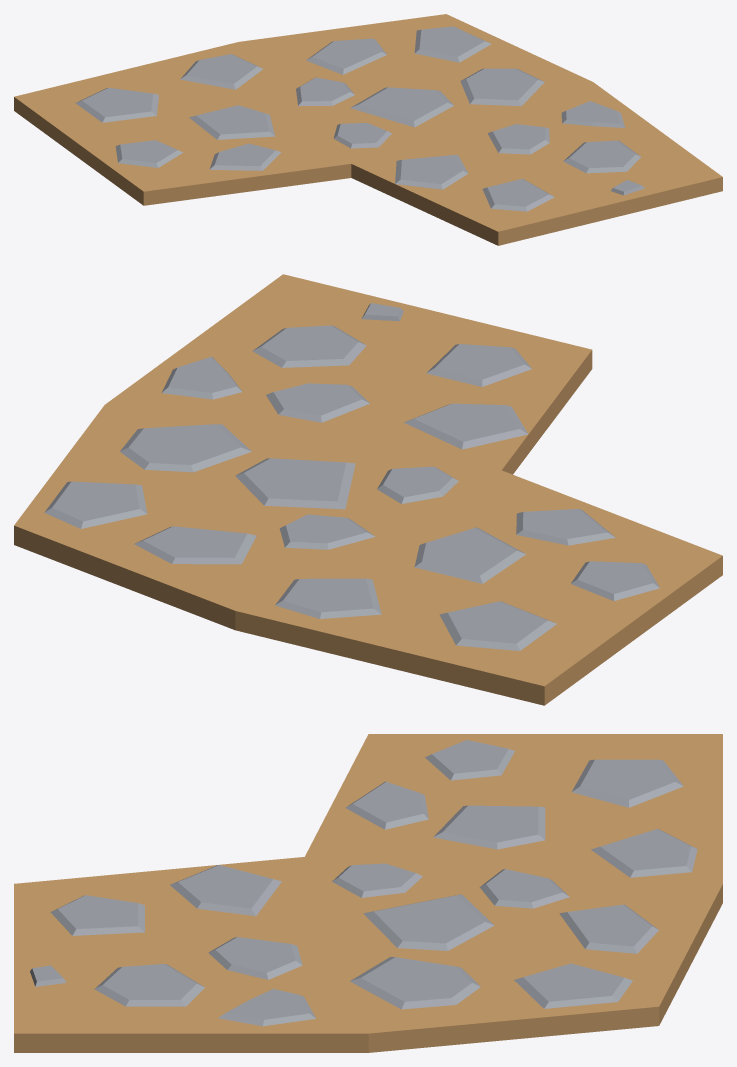
File: RoadRight.fbx
3 renders of one model, top to bottom at view 1: azimuth 30°, elevation 25°; view 2: azimuth 150°, elevation 25°; view 3: azimuth 270°, elevation 25°, orthographic. The views are drawn at different scales.
Visible parts, largest first — view 1: Road-Right; view 2: Road-Right; view 3: Road-Right.
Boxes of the visible parts, x1,y1,x2,y2 form: Road-Right: (14,14,722,245); Road-Right: (14,274,722,705); Road-Right: (14,734,722,1052).
Bounding box in the file's own units: 827 × 29.83 × 827.
